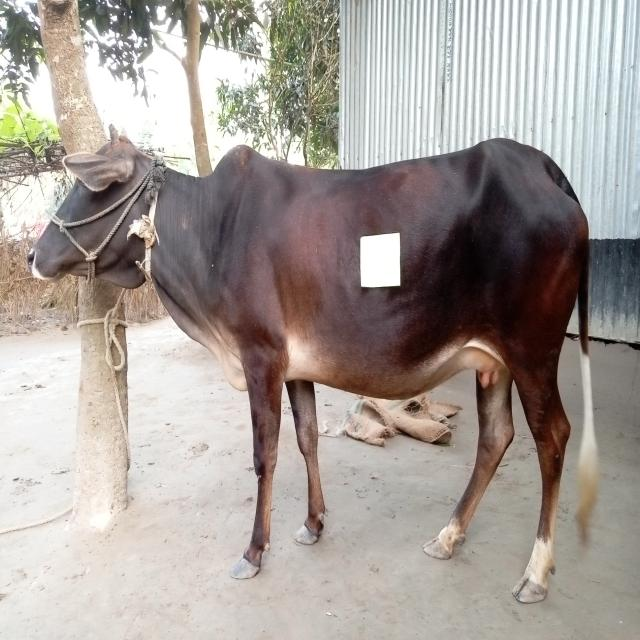badan_sapi: (232, 163, 586, 387)
sapi: (28, 119, 619, 618)
